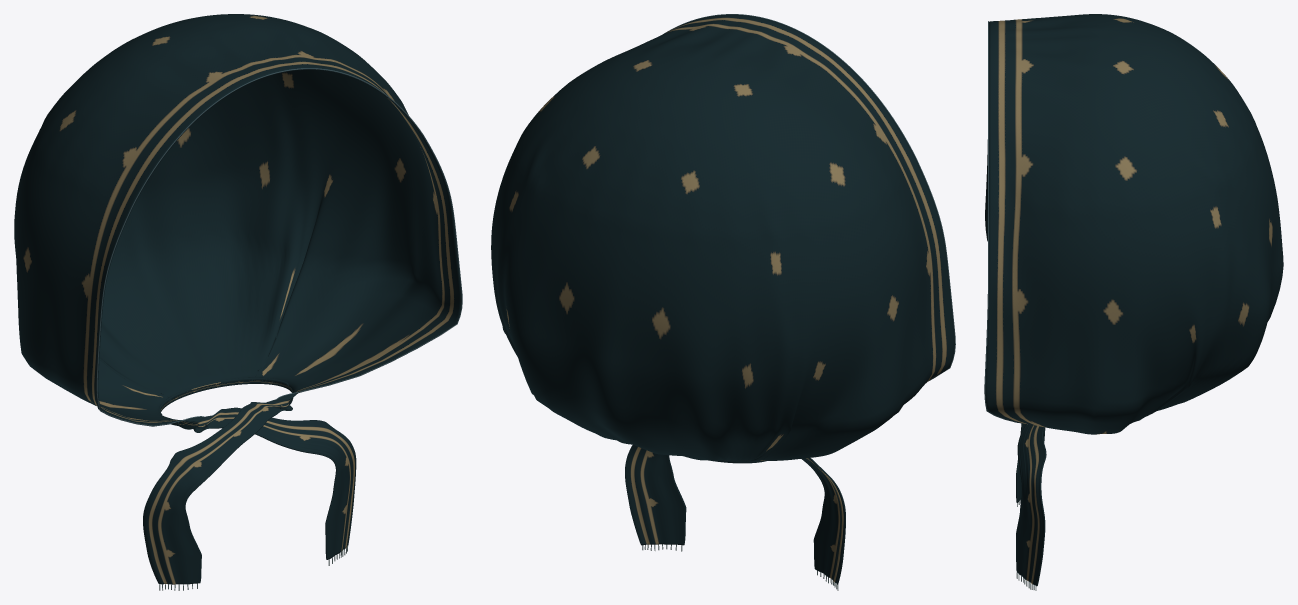
Rendered from Masculine-tshirt-pashmina246-headgear.glb.
The picture shows the model from 3 angles, left to right: view 1: azimuth 30°, elevation 25°; view 2: azimuth 150°, elevation 25°; view 3: azimuth 270°, elevation 25°; orthographic projection. The views are drawn at different scales.
Parts seen in each view (by area): view 1: 226 headgear / Headwear / continuous woven pashmina239, 226 headgear / Headwear / face edge239; view 2: 226 headgear / Headwear / continuous woven pashmina239, 226 headgear / Headwear / face edge239; view 3: 226 headgear / Headwear / continuous woven pashmina239, 226 headgear / Headwear / face edge239.
Part boxes in pixels (left/top/right/bottom): 226 headgear / Headwear / continuous woven pashmina239: left=14, top=14, right=461, bottom=584; 226 headgear / Headwear / face edge239: left=96, top=68, right=462, bottom=426; 226 headgear / Headwear / continuous woven pashmina239: left=491, top=14, right=954, bottom=584; 226 headgear / Headwear / face edge239: left=664, top=14, right=955, bottom=381; 226 headgear / Headwear / continuous woven pashmina239: left=985, top=14, right=1283, bottom=586; 226 headgear / Headwear / face edge239: left=984, top=21, right=1020, bottom=423.
Bounding box in the file's own units: 1.03 × 1.35 × 0.7127.
3 materials, 1 textured.
